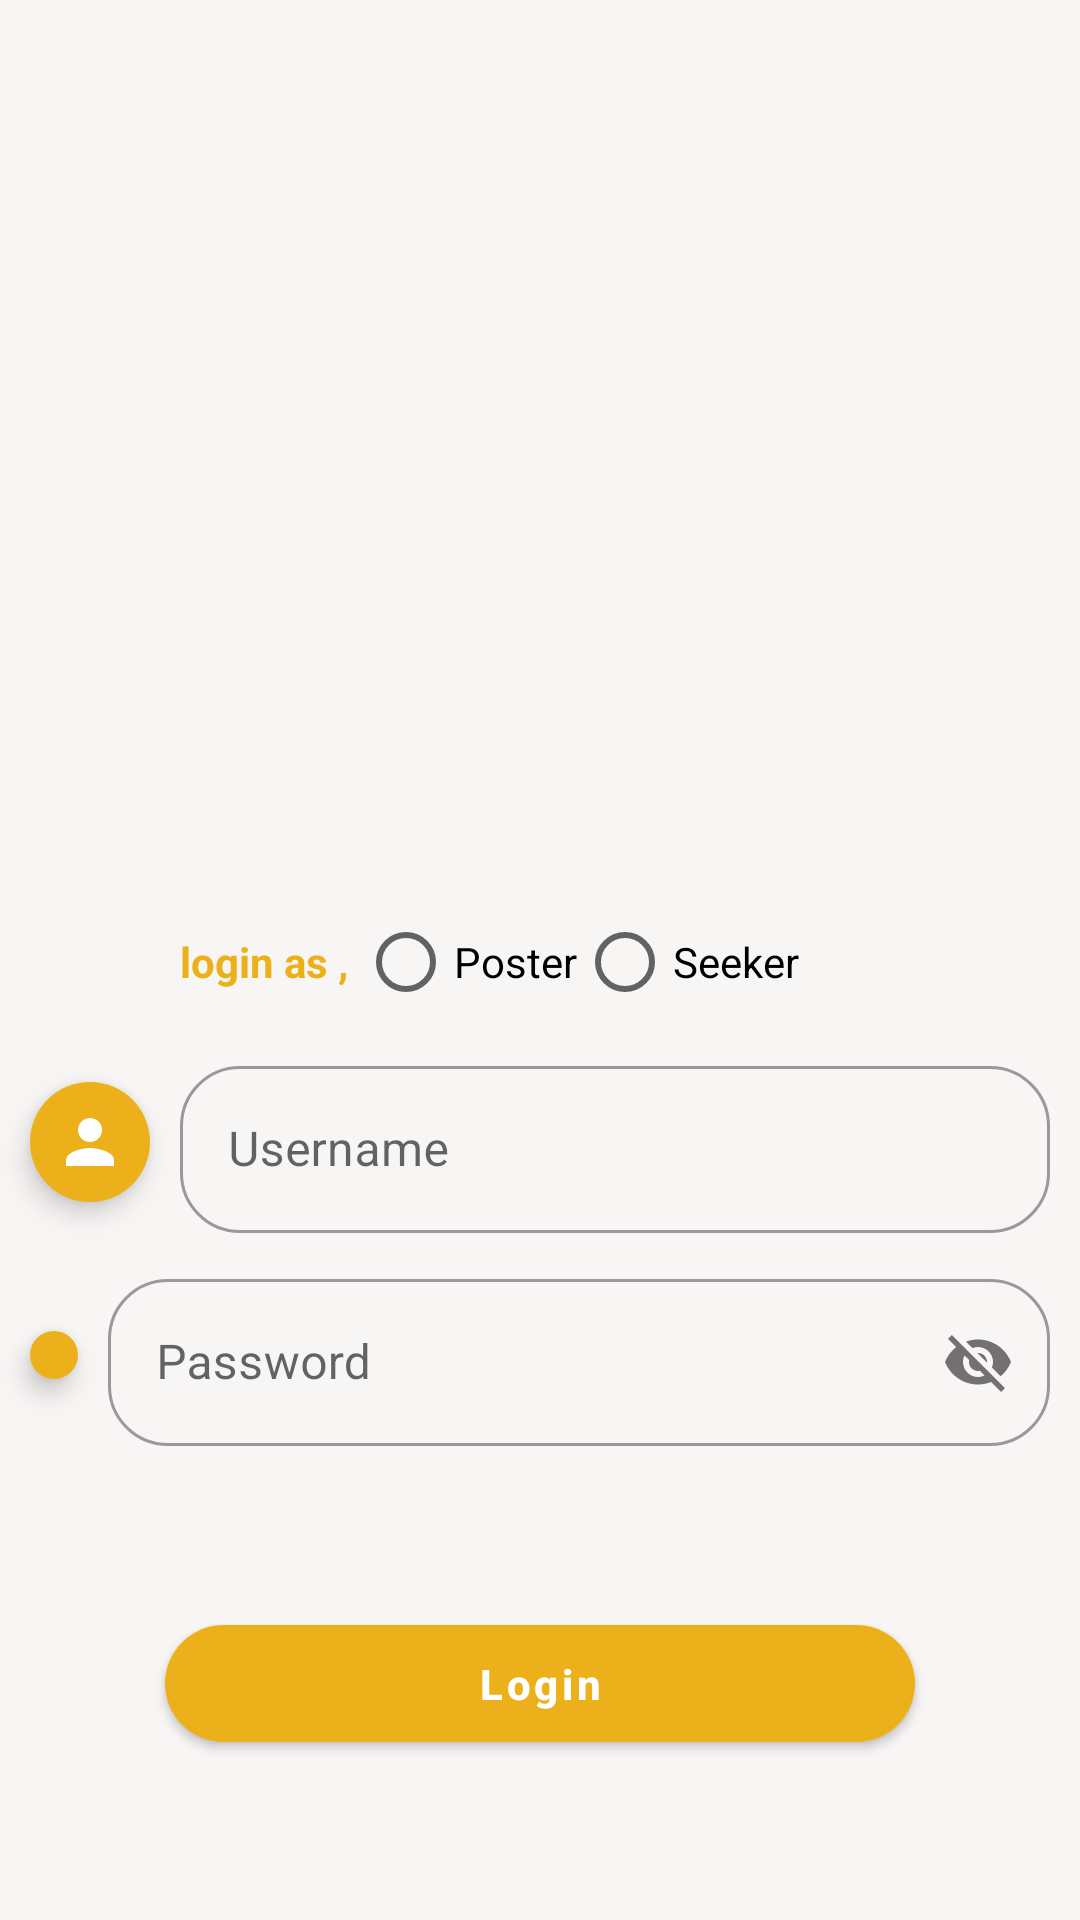

Where to tap for icons on this 1080x1920 app screen, as (x,y):
person: (90,1142)
